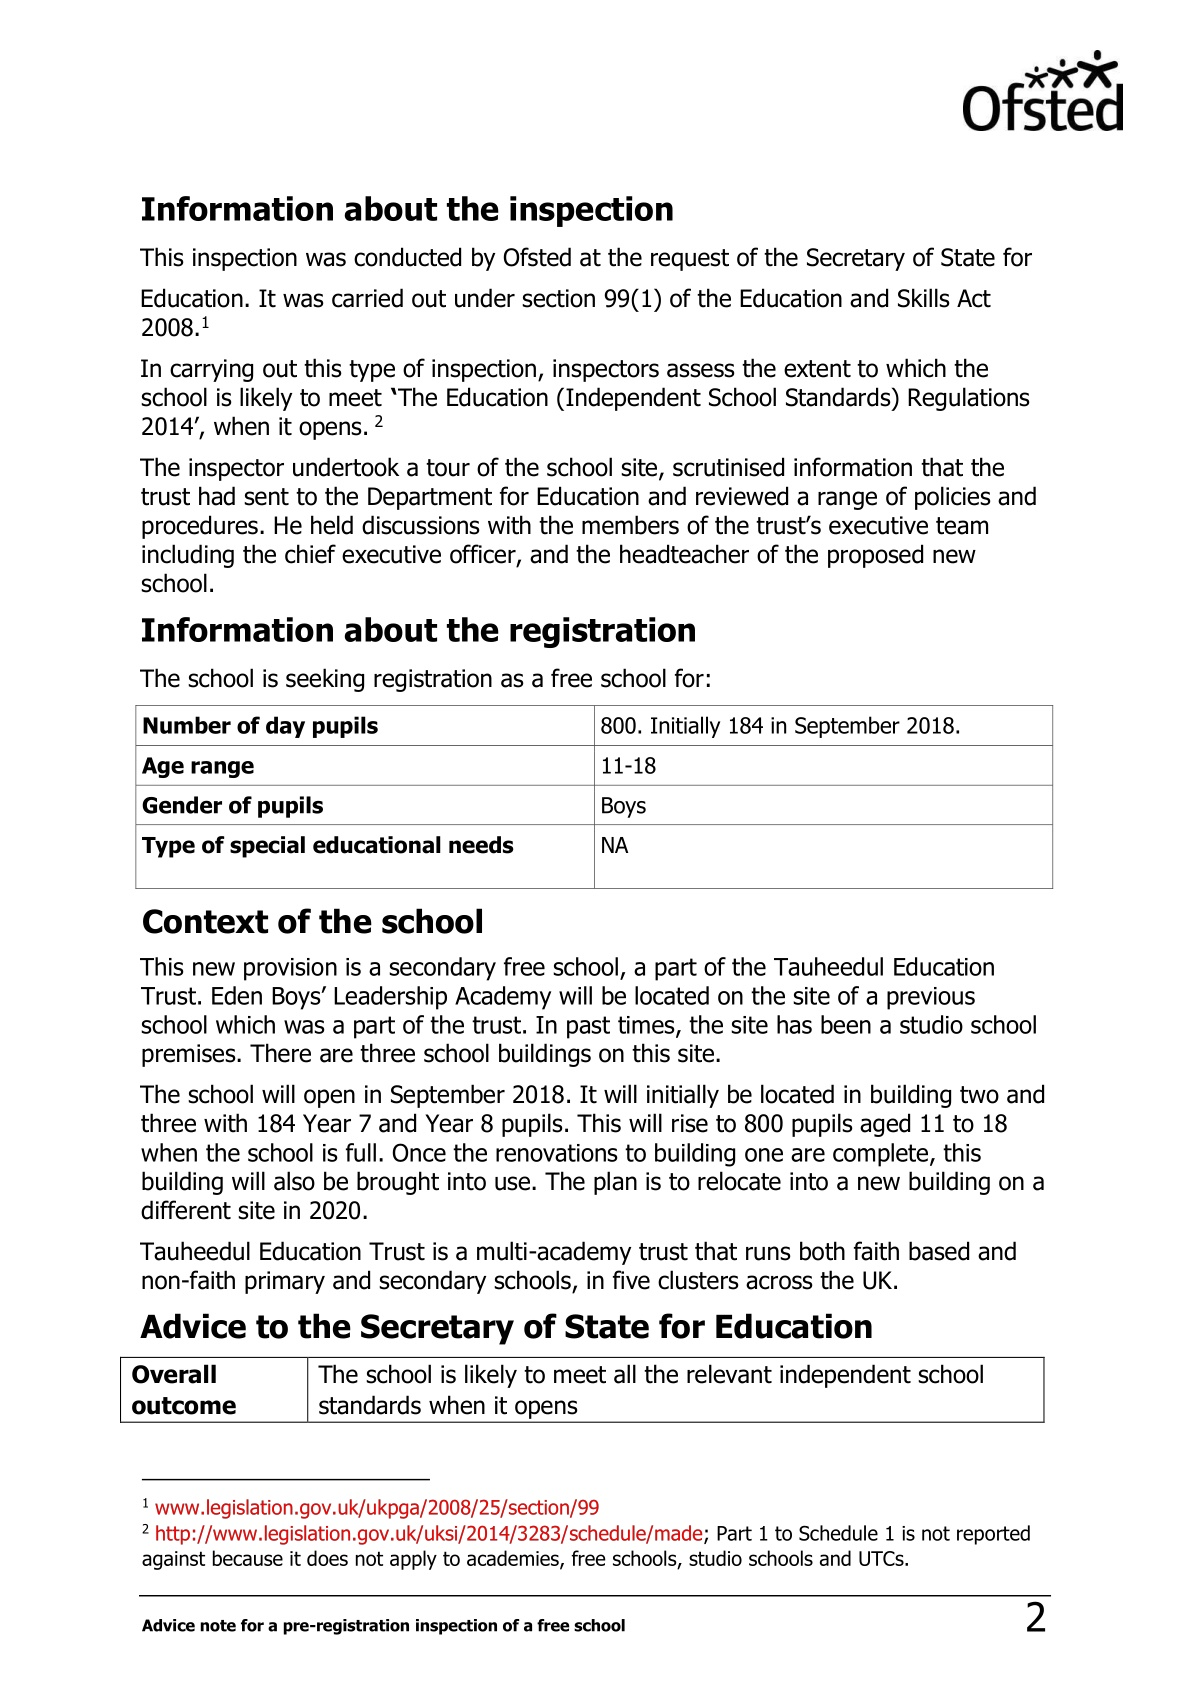full_lined: (135, 706, 1053, 890), (118, 1356, 1044, 1424)
